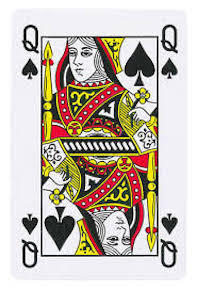QueenOfSpades: (6, 4, 194, 283)
